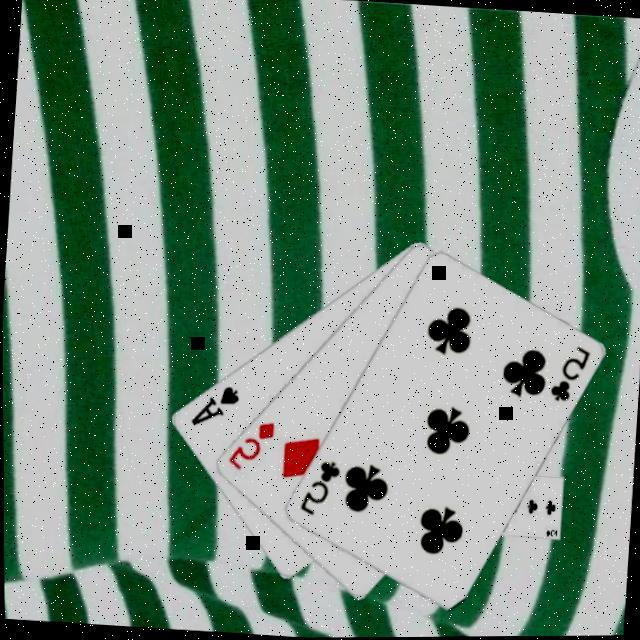5C: (546, 342, 594, 408), (296, 457, 344, 520)
5D: (224, 418, 278, 477)
AS: (188, 381, 242, 432)
